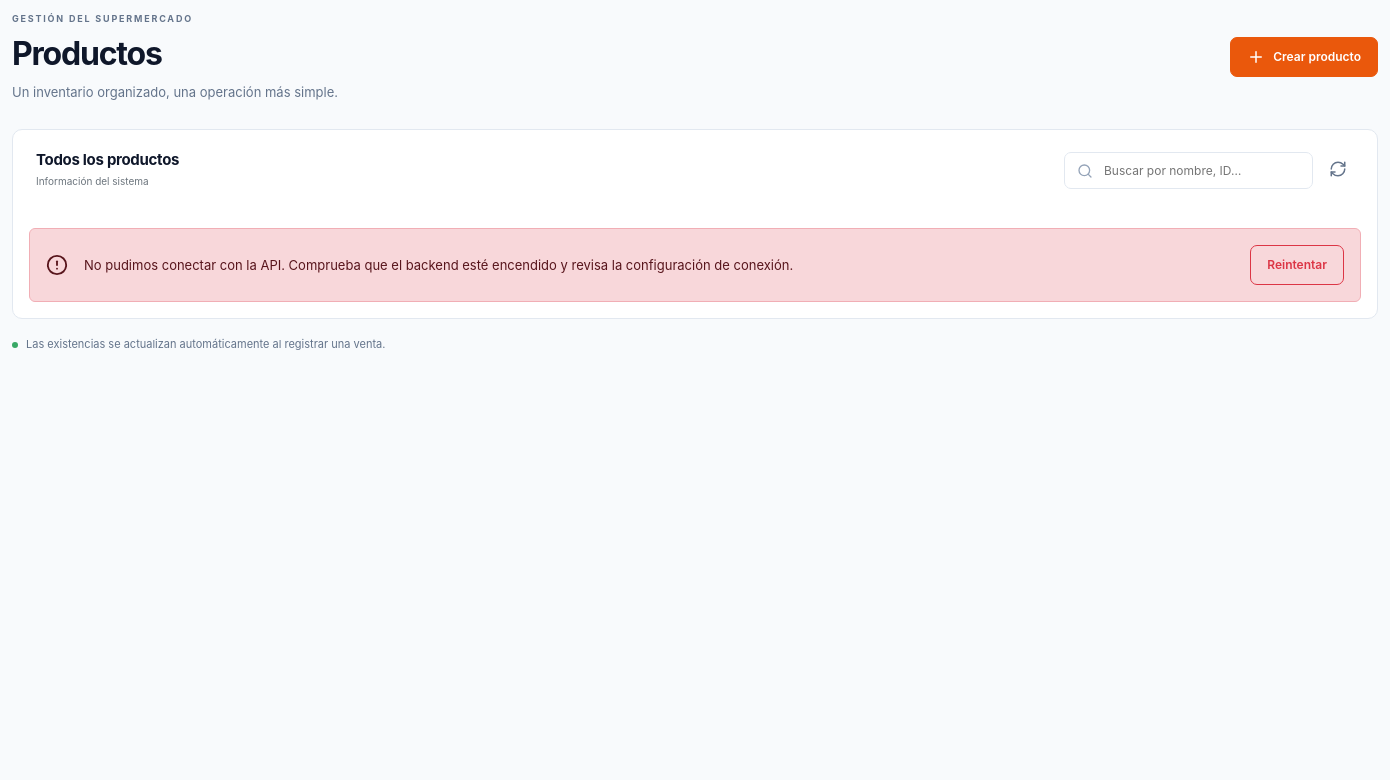
Interacciones de la SPA › muestra errores de conexión y permite reintentar
Expected: the message is shown, 29,228 -> 1361,302
Click the button "Reintentar".
click(1297, 265)  # box 1250,245 -> 1344,285
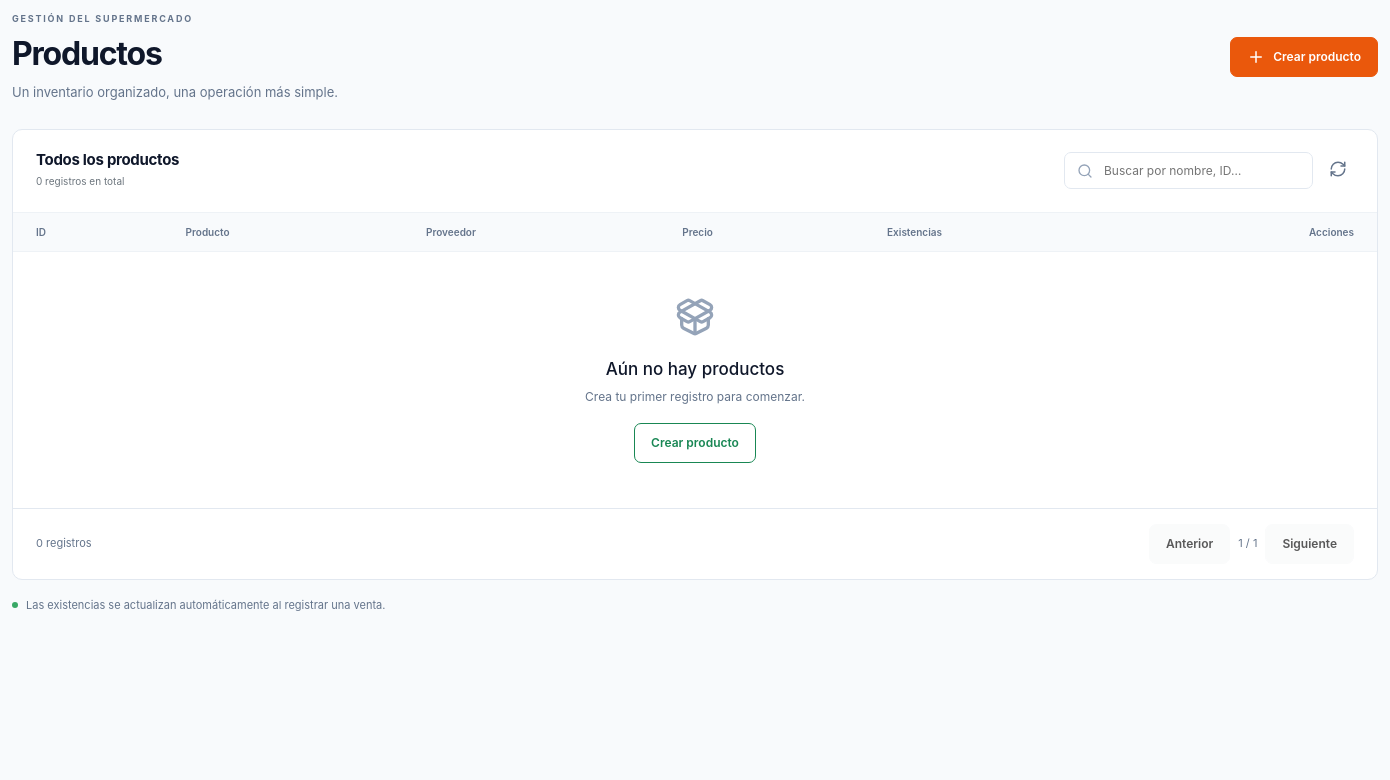
Expected: the heading "Aún no hay productos" is shown, 606,359 -> 784,379
